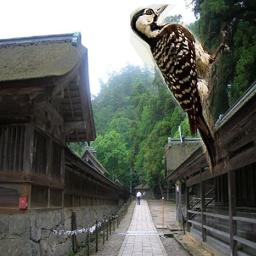Woodpecker: (130, 4, 232, 176)
